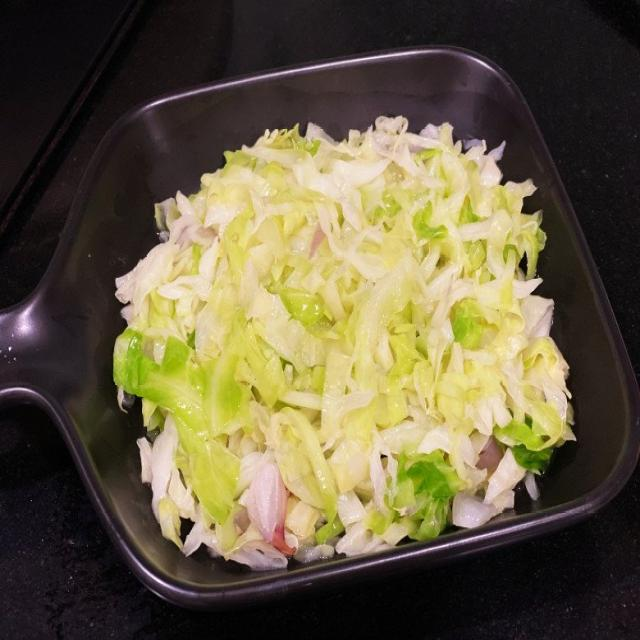bap cai xao: (113, 118, 574, 556)
